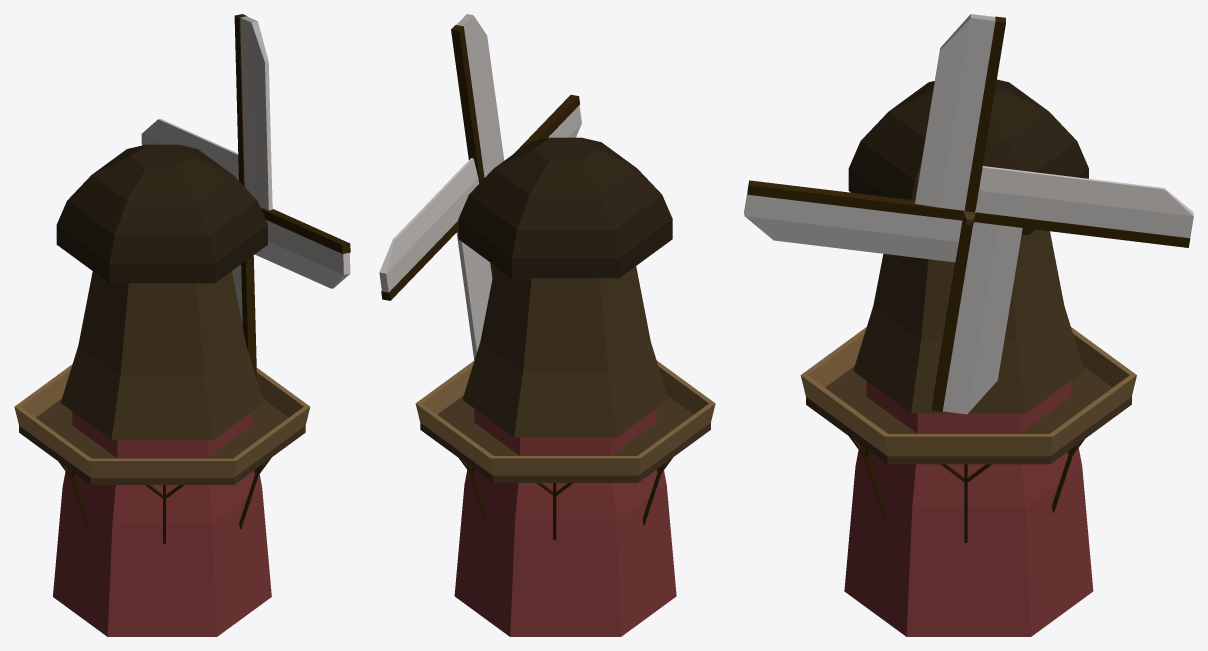
Rendered from Windmill_Spin.fbx.
3 views of the same model, side by side, from view 1: azimuth 30°, elevation 25°; view 2: azimuth 150°, elevation 25°; view 3: azimuth 270°, elevation 25° (orthographic). The views are drawn at different scales.
Visible parts, largest first — view 1: Foundation, Windmill; view 2: Foundation, Windmill; view 3: Foundation, Windmill.
Part boxes in pixels (x1,y1,x2,y2): Foundation: [14, 144, 309, 636]; Windmill: [141, 14, 350, 379]; Foundation: [415, 137, 715, 636]; Windmill: [379, 14, 581, 360]; Foundation: [800, 79, 1136, 636]; Windmill: [744, 14, 1193, 414].
Size of the model in its own units: 459 by 1095 by 709.
